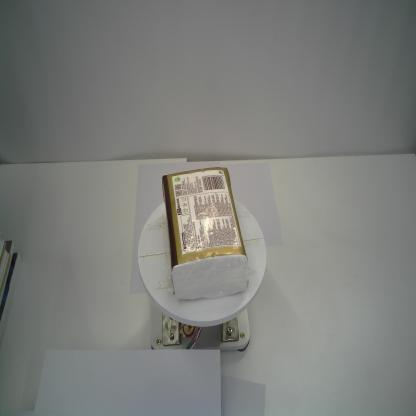Tissue: (160, 166, 250, 301)
